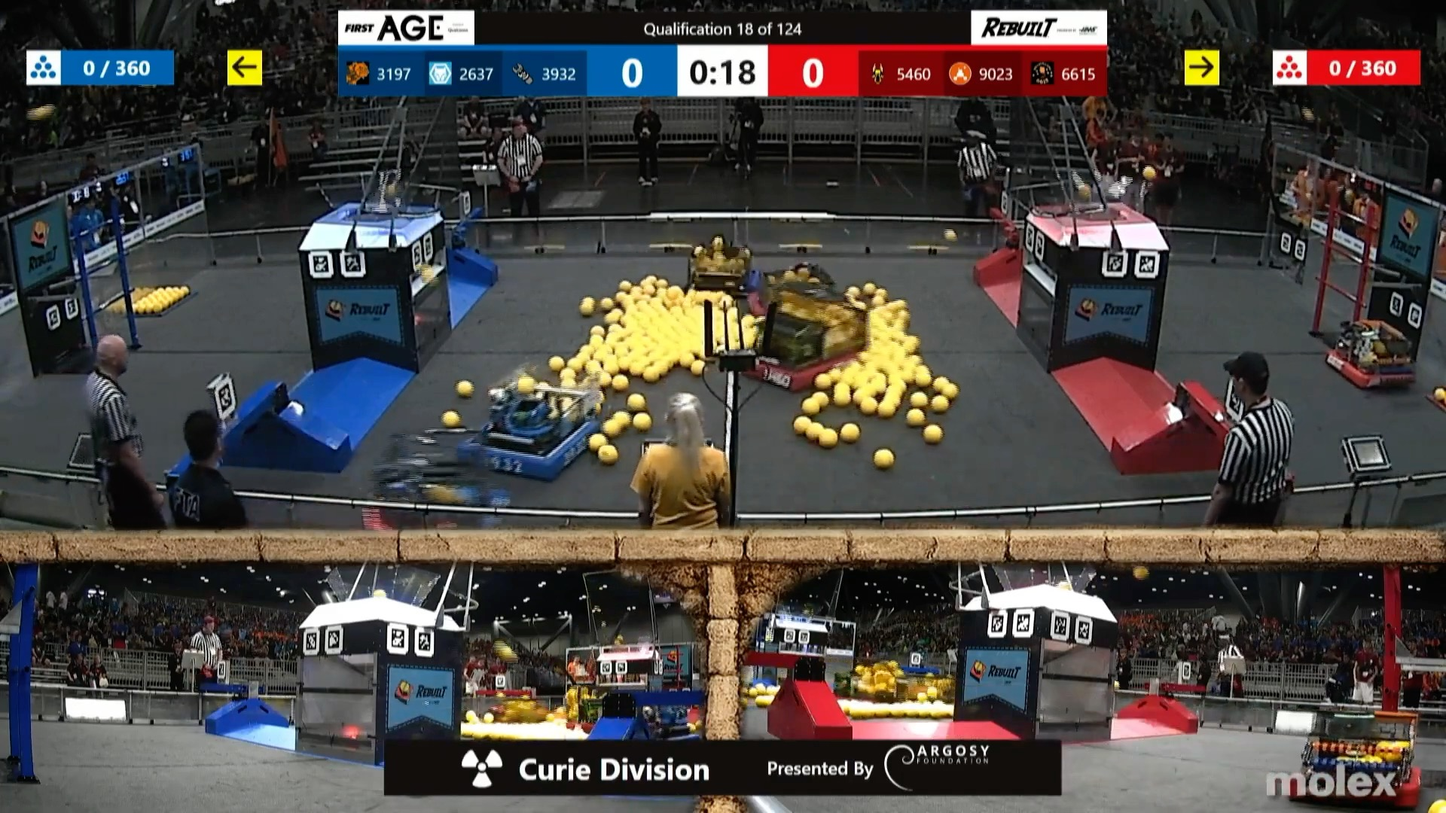bumpers: (454, 410, 620, 483), (1274, 761, 1432, 811), (737, 347, 872, 393), (1310, 343, 1422, 396), (360, 498, 514, 531), (684, 257, 767, 301)
